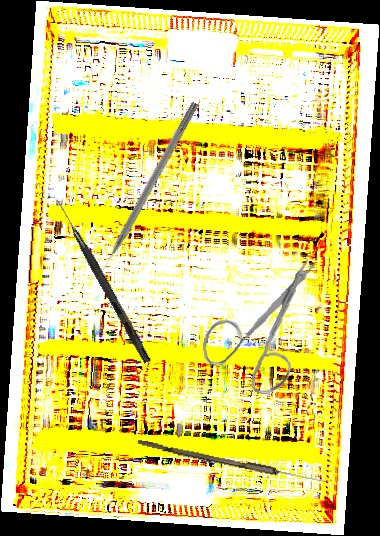Hook Surgical: (51, 198, 154, 364)
Iris Scissors: (197, 256, 325, 398)
Pusher: (91, 100, 200, 283)
Surgical Spoon: (136, 439, 328, 486)
